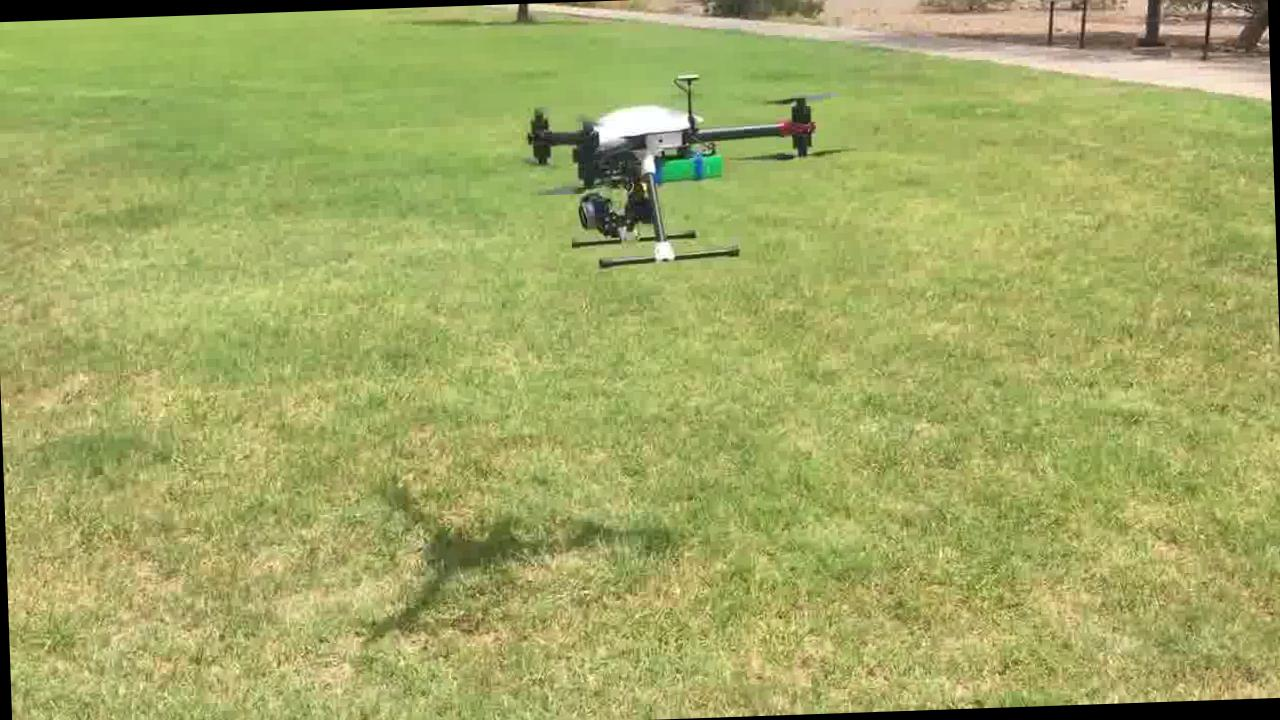drone: (523, 77, 826, 270)
